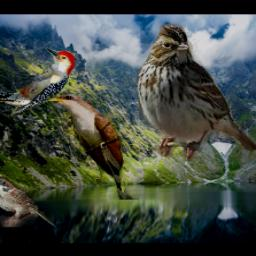Cuckoo: (47, 94, 139, 201)
Sparrow: (133, 23, 256, 161), (0, 177, 56, 228)
Woodpecker: (0, 48, 76, 117)
